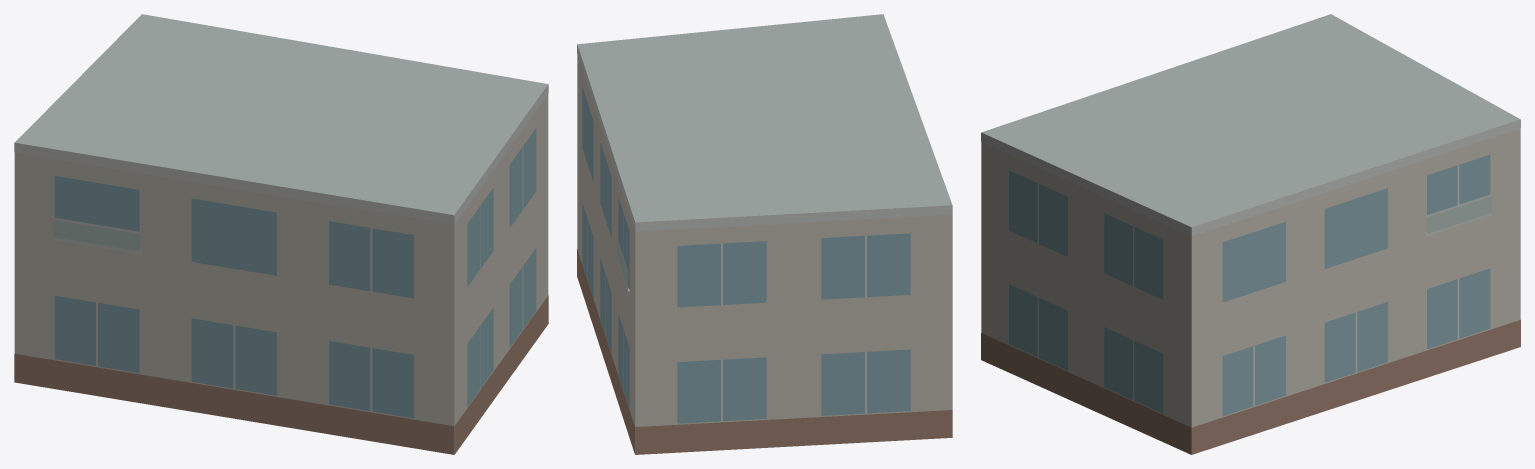
The model's file is survey-upis-32590214.glb.
3 renders of one model, left to right at view 1: azimuth 30°, elevation 25°; view 2: azimuth 150°, elevation 25°; view 3: azimuth 270°, elevation 25°, orthographic. The views are drawn at different scales.
Parts seen in each view (by area): view 1: survey-upis-32590214.tmp; view 2: survey-upis-32590214.tmp; view 3: survey-upis-32590214.tmp.
Part boxes in pixels (bbox=[...]): survey-upis-32590214.tmp: bbox=[14, 14, 548, 454]; survey-upis-32590214.tmp: bbox=[577, 14, 952, 454]; survey-upis-32590214.tmp: bbox=[981, 14, 1520, 454].
Bounding box in the file's own units: 12.27 × 6.1 × 13.12.
